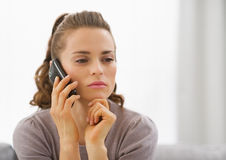phone: (48, 61, 80, 113)
talk: (47, 48, 117, 127)
